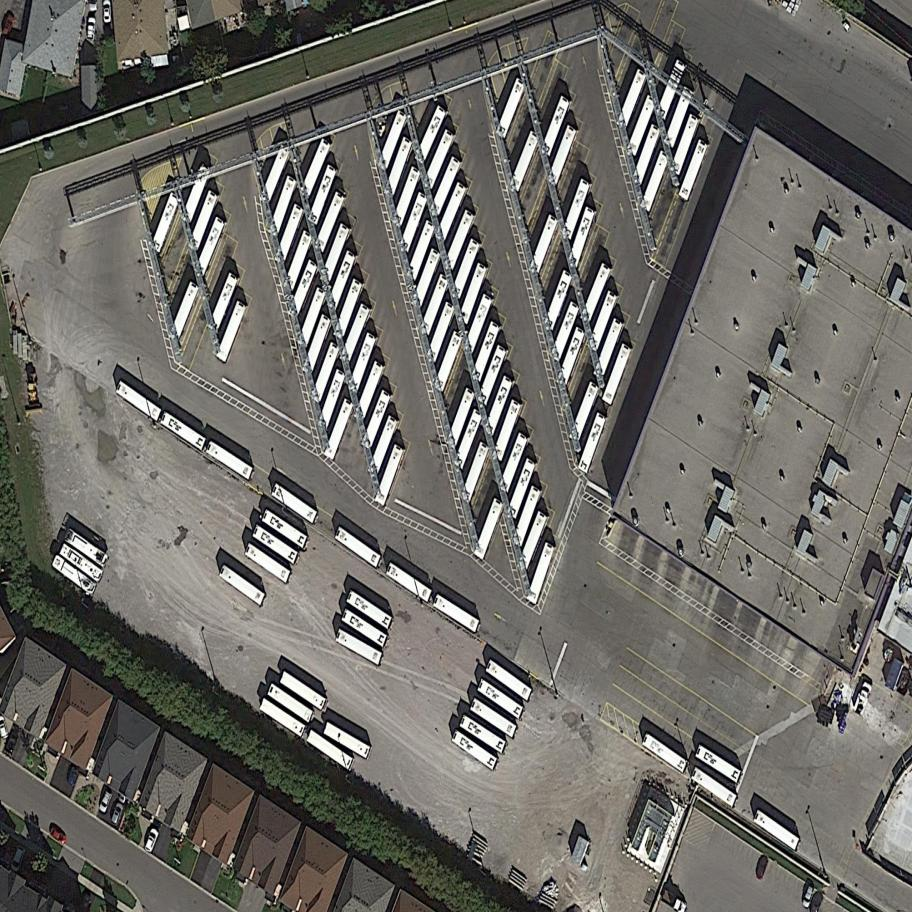large-vehicle: (751, 807, 805, 853), (203, 437, 258, 482), (481, 658, 536, 703), (331, 524, 384, 569), (467, 696, 521, 740), (692, 742, 746, 786), (268, 482, 321, 526), (216, 563, 269, 607), (474, 677, 527, 721), (688, 765, 741, 809), (248, 523, 302, 566), (342, 588, 396, 631), (337, 606, 391, 649), (276, 669, 330, 712), (456, 713, 510, 756), (590, 317, 625, 383), (186, 188, 222, 252), (258, 507, 311, 550), (256, 696, 309, 739), (303, 729, 356, 772), (639, 731, 692, 774), (396, 191, 432, 254), (319, 719, 374, 760), (206, 270, 241, 334), (157, 410, 210, 452), (448, 729, 501, 771), (148, 191, 183, 254), (242, 542, 294, 584), (264, 682, 316, 724), (113, 380, 165, 422), (432, 328, 465, 394), (471, 497, 505, 561), (559, 177, 593, 241), (383, 562, 436, 603), (422, 129, 457, 191), (297, 138, 332, 200), (541, 269, 576, 331), (332, 626, 386, 666), (366, 414, 399, 479), (418, 273, 452, 336), (305, 163, 339, 226), (338, 303, 372, 366), (458, 441, 492, 504), (461, 292, 495, 355), (614, 68, 648, 131), (442, 209, 476, 272), (448, 238, 482, 301), (579, 263, 613, 326), (258, 144, 293, 205), (430, 594, 483, 634), (322, 398, 355, 462), (168, 280, 201, 344), (272, 203, 305, 267), (313, 189, 346, 253), (301, 312, 334, 376), (494, 76, 527, 140), (677, 138, 710, 202), (639, 149, 672, 213), (515, 511, 549, 573), (548, 301, 582, 363), (601, 342, 633, 407), (318, 223, 351, 286), (295, 286, 328, 349), (309, 341, 342, 404), (508, 130, 541, 193), (546, 124, 579, 187), (505, 456, 538, 519), (662, 86, 695, 149), (528, 213, 561, 276), (413, 104, 447, 165), (444, 388, 478, 449), (475, 345, 509, 406), (50, 554, 99, 596), (56, 542, 106, 583), (373, 443, 405, 507), (425, 300, 457, 364), (325, 250, 358, 312), (566, 204, 597, 270), (452, 409, 485, 471), (429, 156, 463, 216), (61, 528, 112, 568), (360, 388, 392, 451), (215, 299, 247, 362), (282, 229, 314, 292), (655, 58, 687, 121), (470, 320, 502, 383), (568, 381, 600, 444), (267, 175, 298, 240), (525, 541, 556, 606), (194, 215, 227, 276), (353, 360, 385, 422), (376, 110, 408, 172), (540, 95, 572, 157), (498, 432, 530, 494), (626, 95, 658, 157), (631, 124, 663, 186), (457, 262, 488, 326), (435, 182, 468, 242), (410, 247, 441, 310), (347, 331, 378, 394), (332, 278, 363, 341), (511, 485, 542, 548), (669, 113, 700, 176), (491, 399, 522, 462), (555, 326, 586, 389), (180, 165, 212, 226), (287, 258, 319, 319), (484, 375, 516, 436), (316, 368, 346, 432), (384, 136, 415, 197), (391, 166, 422, 227), (406, 219, 436, 282), (577, 411, 607, 474), (588, 290, 618, 353)
small-vehicle: (8, 845, 27, 873), (855, 681, 874, 709), (142, 828, 161, 855), (96, 789, 115, 815), (47, 826, 70, 846), (754, 854, 771, 881), (109, 802, 126, 828), (800, 885, 817, 910), (152, 804, 169, 829), (11, 708, 28, 733), (116, 781, 133, 805), (0, 13, 16, 37), (4, 730, 20, 754), (66, 765, 81, 787), (85, 17, 97, 42), (102, 0, 112, 24)
